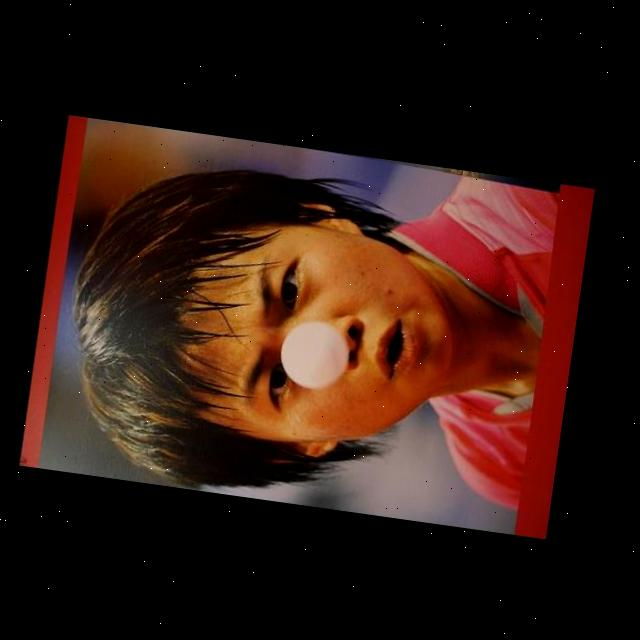ping-pong-ball: (276, 315, 354, 391)
